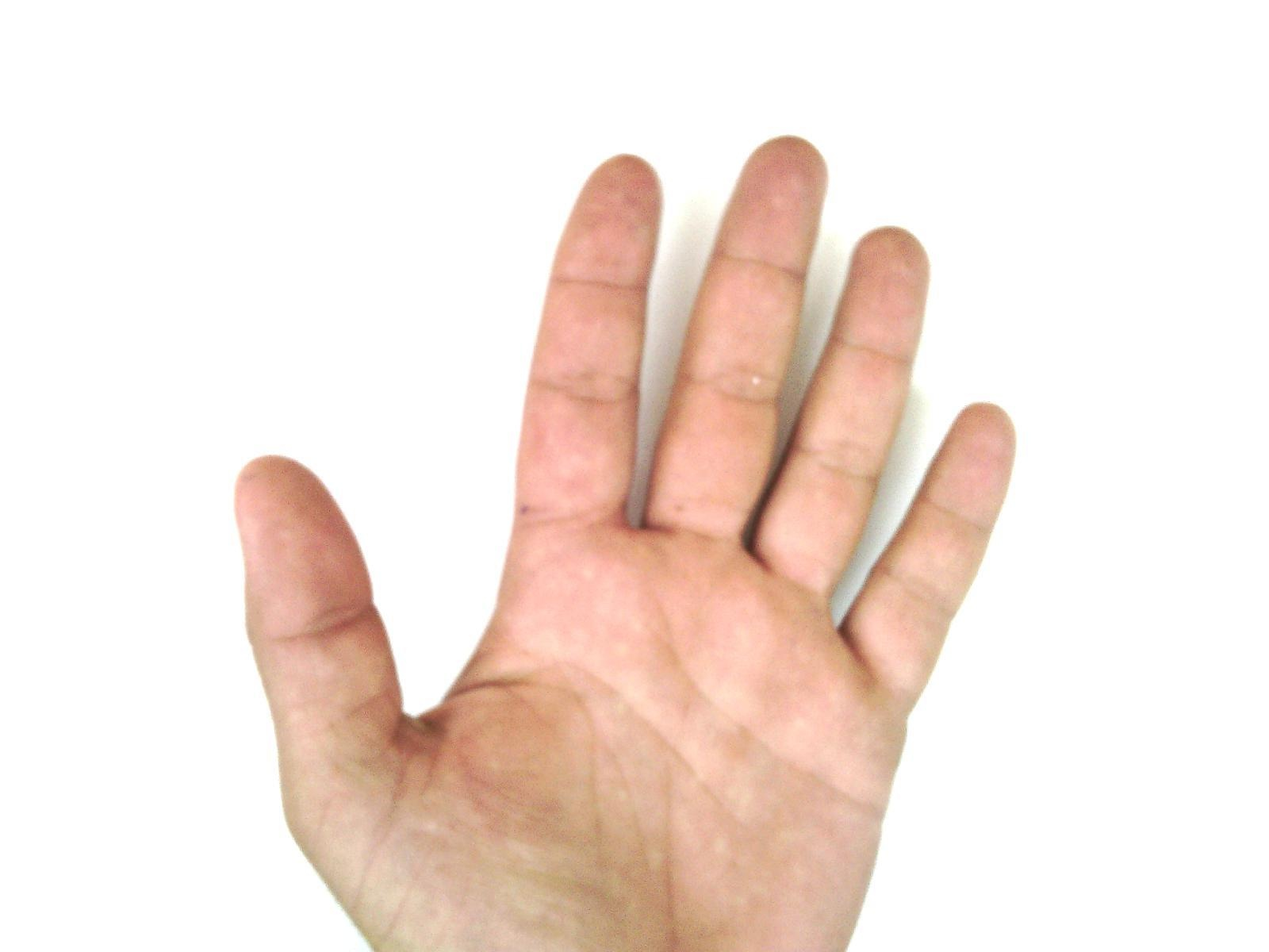open_palm: (232, 135, 1020, 952)
